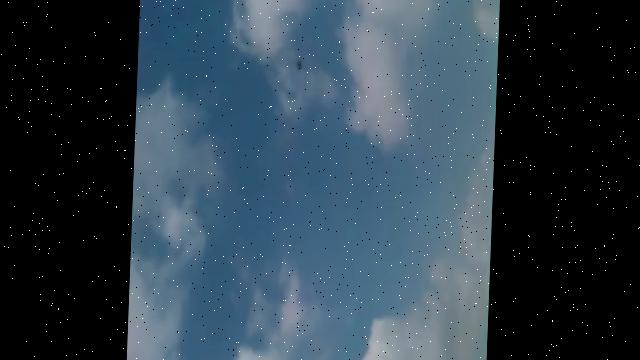drone: (295, 58, 305, 70)
